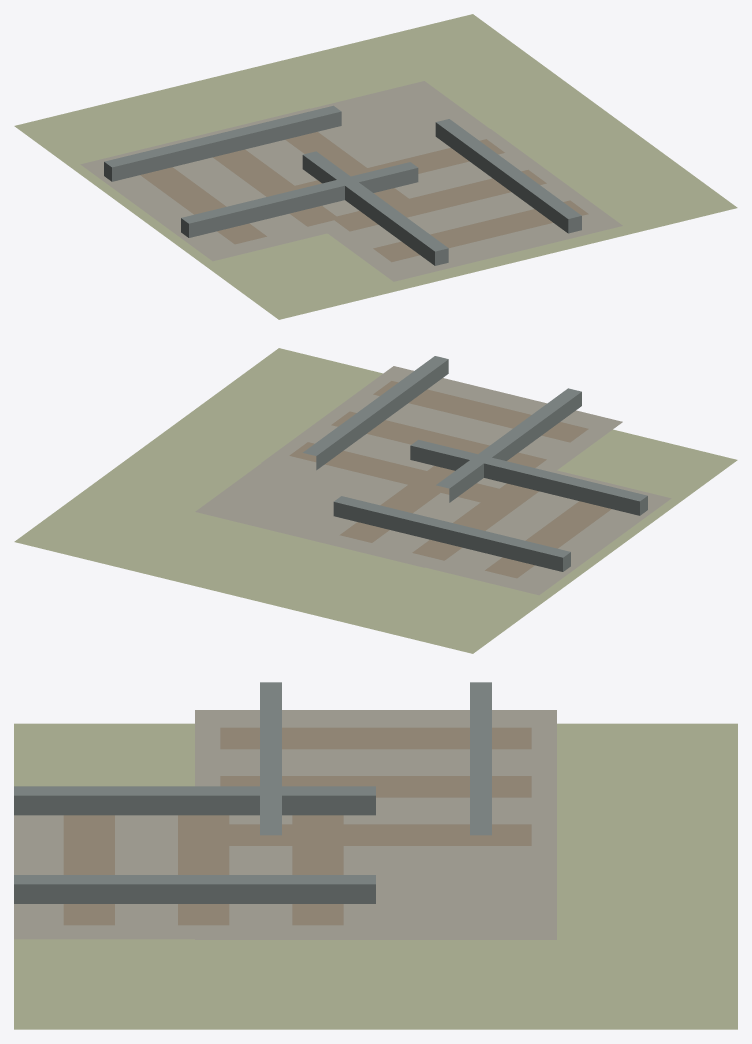
3 renders of one model, top to bottom at view 1: azimuth 30°, elevation 25°; view 2: azimuth 150°, elevation 25°; view 3: azimuth 270°, elevation 25°, orthographic. The views are drawn at different scales.
Parts seen in each view (by area): view 1: Near; view 2: Near; view 3: Near.
Boxes of the visible parts, bbox=[...] form: Near: bbox=[14, 14, 737, 319]; Near: bbox=[14, 348, 737, 653]; Near: bbox=[14, 682, 737, 1029].
Size of the model in its own units: 1 by 0.063 by 1.
